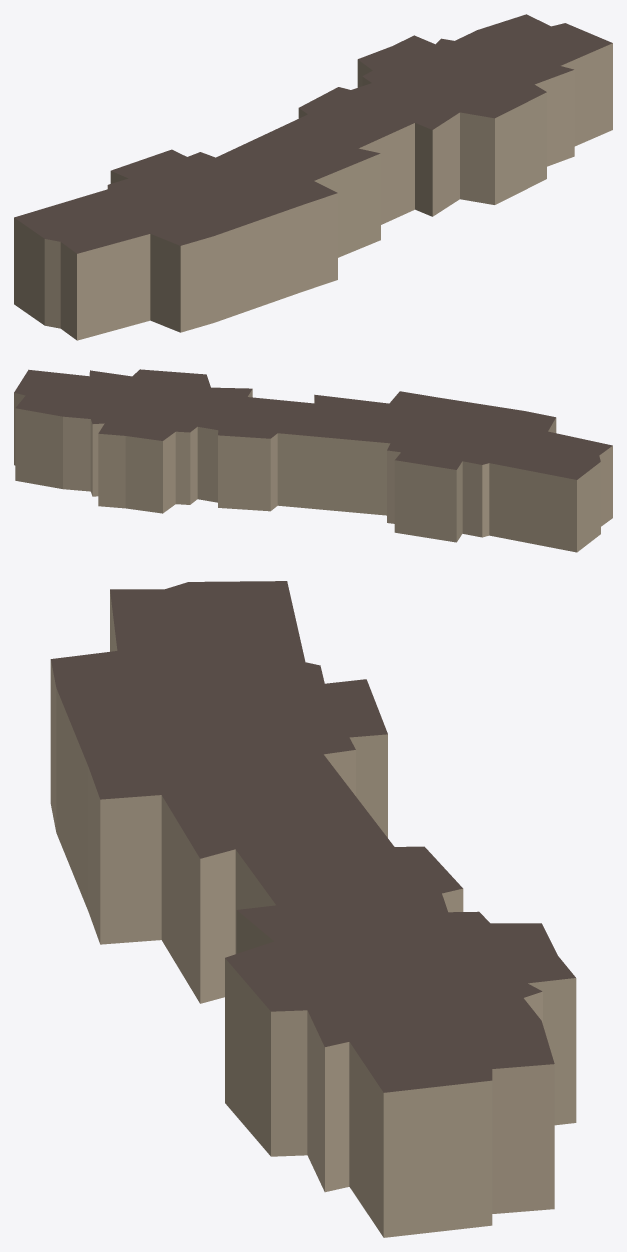
3 views of the same model, one above another, from view 1: azimuth 30°, elevation 25°; view 2: azimuth 150°, elevation 25°; view 3: azimuth 270°, elevation 25° (orthographic). The views are drawn at different scales.
Parts seen in each view (by area): view 1: HP-w1512530037; view 2: HP-w1512530037; view 3: HP-w1512530037.
Boxes of the visible parts, x1=… form: HP-w1512530037: x1=14, y1=14, x2=612, y2=340; HP-w1512530037: x1=14, y1=369, x2=612, y2=552; HP-w1512530037: x1=50, y1=581, x2=576, y2=1237.
Size of the model in its own units: 68.11 by 9 by 29.55.
